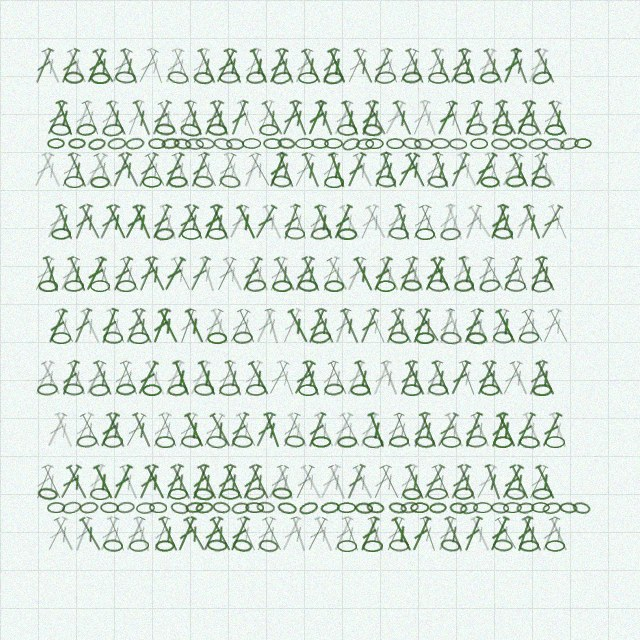chain: (531, 69, 553, 86), (179, 122, 202, 138), (271, 70, 293, 86), (298, 500, 319, 516), (167, 70, 189, 85), (219, 174, 241, 189), (310, 226, 332, 241), (479, 278, 501, 293), (310, 330, 332, 345), (341, 136, 361, 152), (559, 136, 580, 151), (245, 486, 266, 501), (61, 500, 82, 515), (232, 538, 253, 553), (440, 538, 461, 553), (102, 123, 124, 137), (531, 279, 553, 293), (440, 331, 462, 345), (362, 435, 384, 449), (518, 435, 540, 449), (193, 71, 214, 85), (323, 71, 344, 85), (362, 123, 383, 137), (193, 175, 214, 189), (427, 175, 448, 189), (531, 175, 552, 189), (154, 227, 175, 241), (440, 227, 461, 241), (466, 331, 487, 345), (89, 383, 110, 397), (167, 383, 188, 397), (206, 435, 227, 449), (414, 435, 435, 449), (37, 487, 58, 501), (193, 487, 214, 501), (505, 487, 526, 501), (258, 539, 279, 553), (466, 123, 488, 136), (76, 435, 98, 448), (87, 137, 107, 151), (213, 137, 233, 151), (545, 137, 565, 151), (277, 501, 297, 515), (459, 501, 479, 515), (542, 501, 562, 515), (115, 71, 136, 84), (219, 71, 240, 84), (375, 71, 396, 84), (50, 123, 71, 136), (76, 123, 97, 136), (518, 123, 539, 136), (271, 175, 292, 188), (505, 175, 526, 188), (388, 227, 409, 240), (297, 279, 318, 292), (505, 279, 526, 292), (37, 383, 58, 396), (63, 383, 84, 396), (219, 383, 240, 396), (232, 435, 253, 448), (284, 435, 305, 448), (466, 435, 487, 448), (173, 137, 192, 151), (170, 501, 189, 515), (231, 501, 250, 515), (388, 501, 407, 515), (572, 501, 591, 515), (64, 71, 84, 84), (246, 71, 266, 84), (402, 71, 422, 84), (480, 71, 500, 84), (155, 123, 175, 136), (207, 123, 227, 136), (107, 137, 127, 150), (125, 137, 145, 150), (195, 137, 215, 150), (402, 137, 422, 150), (376, 175, 396, 188), (285, 227, 305, 240), (493, 227, 513, 240), (246, 279, 266, 292), (402, 279, 422, 292), (428, 279, 448, 292), (454, 279, 474, 292), (103, 331, 123, 344), (233, 331, 253, 344), (389, 331, 409, 344), (493, 331, 513, 344), (519, 331, 539, 344), (116, 383, 136, 396), (194, 383, 214, 396), (324, 383, 344, 396), (428, 383, 448, 396), (103, 435, 123, 448), (181, 435, 201, 448), (389, 435, 409, 448), (272, 487, 292, 500), (454, 487, 474, 500), (79, 501, 99, 514), (320, 501, 340, 514), (103, 539, 123, 552), (129, 539, 149, 552), (207, 539, 227, 552), (389, 539, 409, 552), (493, 539, 513, 552), (427, 488, 448, 500), (362, 540, 383, 552), (161, 137, 180, 150), (277, 137, 296, 150), (509, 137, 528, 150), (116, 501, 135, 514), (185, 501, 204, 514), (195, 501, 214, 514), (212, 501, 231, 514), (256, 501, 275, 514), (366, 501, 385, 514), (400, 501, 419, 514), (90, 72, 110, 84), (298, 72, 318, 84), (428, 72, 448, 84), (454, 72, 474, 84), (259, 124, 279, 136), (337, 124, 357, 136), (493, 124, 513, 136), (545, 124, 565, 136), (528, 138, 548, 150), (64, 176, 84, 188), (90, 176, 110, 188), (142, 176, 162, 188), (168, 176, 188, 188), (324, 176, 344, 188), (480, 176, 500, 188), (51, 228, 71, 240), (181, 228, 201, 240), (207, 228, 227, 240), (337, 228, 357, 240), (415, 228, 435, 240), (38, 280, 58, 292), (64, 280, 84, 292), (90, 280, 110, 292), (116, 280, 136, 292), (272, 280, 292, 292), (324, 280, 344, 292), (376, 280, 396, 292), (51, 332, 71, 344), (129, 332, 149, 344), (207, 332, 227, 344), (415, 332, 435, 344), (142, 384, 162, 396), (246, 384, 266, 396), (298, 384, 318, 396), (350, 384, 370, 396), (402, 384, 422, 396), (480, 384, 500, 396), (532, 384, 552, 396), (155, 436, 175, 448), (311, 436, 331, 448), (337, 436, 357, 448), (441, 436, 461, 448), (493, 436, 513, 448), (545, 436, 565, 448), (90, 488, 110, 500), (168, 488, 188, 500), (220, 488, 240, 500), (402, 488, 422, 500), (532, 488, 552, 500), (155, 540, 175, 552), (337, 540, 357, 552), (519, 540, 539, 552), (545, 540, 565, 552), (185, 138, 204, 150), (414, 138, 433, 150), (491, 138, 510, 150), (136, 502, 155, 514), (449, 502, 468, 514), (516, 502, 535, 514), (559, 502, 578, 514), (226, 138, 244, 150), (356, 138, 374, 150), (449, 138, 467, 150), (355, 502, 373, 514), (429, 502, 447, 514), (491, 502, 509, 514), (242, 138, 261, 149), (263, 138, 282, 149), (295, 138, 314, 149), (324, 138, 343, 149), (365, 138, 384, 149), (431, 138, 450, 149), (100, 502, 119, 513), (245, 502, 264, 513), (337, 502, 356, 513), (410, 502, 429, 513), (473, 502, 492, 513), (503, 502, 522, 513), (531, 502, 550, 513), (47, 138, 65, 149), (68, 138, 86, 149), (148, 138, 166, 149), (311, 138, 329, 149), (386, 138, 404, 149), (470, 138, 488, 149), (574, 138, 592, 149), (47, 502, 65, 513), (149, 502, 167, 513)
double: (471, 151, 500, 188), (466, 203, 495, 240), (414, 307, 443, 344), (492, 515, 521, 552), (90, 47, 118, 85), (259, 99, 287, 137), (493, 99, 521, 137), (82, 151, 110, 189), (246, 151, 274, 189), (394, 151, 422, 189), (498, 151, 526, 189), (532, 151, 560, 189), (173, 203, 201, 241), (251, 203, 279, 241), (537, 203, 565, 241), (160, 255, 188, 293), (324, 255, 352, 293), (480, 255, 508, 293), (225, 307, 253, 345), (519, 307, 547, 345), (264, 359, 292, 397), (290, 359, 318, 397), (121, 411, 149, 449), (199, 411, 227, 449), (207, 411, 235, 449), (433, 411, 461, 449), (56, 463, 84, 501), (264, 463, 292, 501), (298, 463, 326, 501), (498, 463, 526, 501), (77, 515, 105, 553), (181, 515, 209, 553), (207, 515, 235, 553), (64, 47, 91, 85), (108, 47, 135, 85), (134, 47, 161, 85), (212, 47, 239, 85), (446, 47, 473, 85), (524, 47, 551, 85), (532, 47, 559, 85), (43, 99, 70, 137), (155, 99, 182, 137), (363, 99, 390, 137), (381, 99, 408, 137), (433, 99, 460, 137), (30, 151, 57, 189), (116, 151, 143, 189), (134, 151, 161, 189), (142, 151, 169, 189), (290, 151, 317, 189), (350, 151, 377, 189), (43, 203, 70, 241), (77, 203, 104, 241), (121, 203, 148, 241), (225, 203, 252, 241), (337, 203, 364, 241), (363, 203, 390, 241), (30, 255, 57, 293), (56, 255, 83, 293), (82, 255, 109, 293), (168, 255, 195, 293), (186, 255, 213, 293), (212, 255, 239, 293), (220, 255, 247, 293), (238, 255, 265, 293), (272, 255, 299, 293), (428, 255, 455, 293), (155, 307, 182, 345), (285, 307, 312, 345), (389, 307, 416, 345), (493, 307, 520, 345), (545, 307, 572, 345), (38, 359, 65, 397), (82, 359, 109, 397), (134, 359, 161, 397), (186, 359, 213, 397), (246, 359, 273, 397), (480, 359, 507, 397), (498, 359, 525, 397), (43, 411, 70, 449), (77, 411, 104, 449), (233, 411, 260, 449), (285, 411, 312, 449), (329, 411, 356, 449), (337, 411, 364, 449), (64, 463, 91, 501), (142, 463, 169, 501), (168, 463, 195, 501), (316, 463, 343, 501), (350, 463, 377, 501), (420, 463, 447, 501), (472, 463, 499, 501), (524, 463, 551, 501), (43, 515, 70, 553), (51, 515, 78, 553), (199, 515, 226, 553), (259, 515, 286, 553), (303, 515, 330, 553), (389, 515, 416, 553), (519, 515, 546, 553), (83, 47, 109, 85), (161, 47, 187, 85), (265, 47, 291, 85), (299, 47, 325, 85), (343, 47, 369, 85), (351, 47, 377, 85), (369, 47, 395, 85), (395, 47, 421, 85), (429, 47, 455, 85), (473, 47, 499, 85), (481, 47, 507, 85), (104, 99, 130, 137), (148, 99, 174, 137), (200, 99, 226, 137), (278, 99, 304, 137), (330, 99, 356, 137), (390, 99, 416, 137), (512, 99, 538, 137), (520, 99, 546, 137), (538, 99, 564, 137), (546, 99, 572, 137), (39, 151, 65, 189), (57, 151, 83, 189), (65, 151, 91, 189), (91, 151, 117, 189), (161, 151, 187, 189), (195, 151, 221, 189), (213, 151, 239, 189), (343, 151, 369, 189), (403, 151, 429, 189), (455, 151, 481, 189), (507, 151, 533, 189), (96, 203, 122, 241), (104, 203, 130, 241), (148, 203, 174, 241), (234, 203, 260, 241), (260, 203, 286, 241), (382, 203, 408, 241), (408, 203, 434, 241), (109, 255, 135, 293), (117, 255, 143, 293), (143, 255, 169, 293), (247, 255, 273, 293), (291, 255, 317, 293), (343, 255, 369, 293), (351, 255, 377, 293), (369, 255, 395, 293), (377, 255, 403, 293), (421, 255, 447, 293), (533, 255, 559, 293), (44, 307, 70, 345), (52, 307, 78, 345), (78, 307, 104, 345), (122, 307, 148, 345), (130, 307, 156, 345), (182, 307, 208, 345), (200, 307, 226, 345), (252, 307, 278, 345), (278, 307, 304, 345), (312, 307, 338, 345), (460, 307, 486, 345), (486, 307, 512, 345), (538, 307, 564, 345), (31, 359, 57, 397), (143, 359, 169, 397), (161, 359, 187, 397), (239, 359, 265, 397), (325, 359, 351, 397), (403, 359, 429, 397), (447, 359, 473, 397), (473, 359, 499, 397), (533, 359, 559, 397), (70, 411, 96, 449), (96, 411, 122, 449), (148, 411, 174, 449), (174, 411, 200, 449), (182, 411, 208, 449), (226, 411, 252, 449), (252, 411, 278, 449), (312, 411, 338, 449), (442, 411, 468, 449), (468, 411, 494, 449), (494, 411, 520, 449), (512, 411, 538, 449), (520, 411, 546, 449), (538, 411, 564, 449), (39, 463, 65, 501), (91, 463, 117, 501), (109, 463, 135, 501), (135, 463, 161, 501), (195, 463, 221, 501), (221, 463, 247, 501), (247, 463, 273, 501), (291, 463, 317, 501), (377, 463, 403, 501), (447, 463, 473, 501), (507, 463, 533, 501), (533, 463, 559, 501), (96, 515, 122, 553), (122, 515, 148, 553), (156, 515, 182, 553), (226, 515, 252, 553), (234, 515, 260, 553), (252, 515, 278, 553), (278, 515, 304, 553), (330, 515, 356, 553), (356, 515, 382, 553), (408, 515, 434, 553), (468, 515, 494, 553), (486, 515, 512, 553), (546, 515, 572, 553), (31, 47, 56, 85), (39, 47, 64, 85), (57, 47, 82, 85), (169, 47, 194, 85), (195, 47, 220, 85), (221, 47, 246, 85), (247, 47, 272, 85), (273, 47, 298, 85), (291, 47, 316, 85), (325, 47, 350, 85), (403, 47, 428, 85), (499, 47, 524, 85), (70, 99, 95, 137), (96, 99, 121, 137), (130, 99, 155, 137), (182, 99, 207, 137), (208, 99, 233, 137), (234, 99, 259, 137), (304, 99, 329, 137), (408, 99, 433, 137), (460, 99, 485, 137), (468, 99, 493, 137), (109, 151, 134, 189), (169, 151, 194, 189), (187, 151, 212, 189), (221, 151, 246, 189), (265, 151, 290, 189), (299, 151, 324, 189), (421, 151, 446, 189), (447, 151, 472, 189), (130, 203, 155, 241), (182, 203, 207, 241), (200, 203, 225, 241), (208, 203, 233, 241), (312, 203, 337, 241), (330, 203, 355, 241), (356, 203, 381, 241), (416, 203, 441, 241), (486, 203, 511, 241), (512, 203, 537, 241), (546, 203, 571, 241), (65, 255, 90, 293), (135, 255, 160, 293), (265, 255, 290, 293), (299, 255, 324, 293), (395, 255, 420, 293), (403, 255, 428, 293), (499, 255, 524, 293), (70, 307, 95, 345), (104, 307, 129, 345), (208, 307, 233, 345), (234, 307, 259, 345), (304, 307, 329, 345), (338, 307, 363, 345), (356, 307, 381, 345), (364, 307, 389, 345), (382, 307, 407, 345), (468, 307, 493, 345), (512, 307, 537, 345), (65, 359, 90, 397), (91, 359, 116, 397), (109, 359, 134, 397), (117, 359, 142, 397), (195, 359, 220, 397), (213, 359, 238, 397), (343, 359, 368, 397), (369, 359, 394, 397), (429, 359, 454, 397), (507, 359, 532, 397), (525, 359, 550, 397), (52, 411, 77, 449), (104, 411, 129, 449), (130, 411, 155, 449), (156, 411, 181, 449), (278, 411, 303, 449), (304, 411, 329, 449), (356, 411, 381, 449), (382, 411, 407, 449), (416, 411, 441, 449), (31, 463, 56, 501), (117, 463, 142, 501), (213, 463, 238, 501), (239, 463, 264, 501), (325, 463, 350, 501), (343, 463, 368, 501), (369, 463, 394, 501), (395, 463, 420, 501), (403, 463, 428, 501), (429, 463, 454, 501), (455, 463, 480, 501), (104, 515, 129, 553), (174, 515, 199, 553), (312, 515, 337, 553), (382, 515, 407, 553), (434, 515, 459, 553), (442, 515, 467, 553), (460, 515, 485, 553), (538, 515, 563, 553), (118, 47, 142, 85), (188, 47, 212, 85), (240, 47, 264, 85), (318, 47, 342, 85), (378, 47, 402, 85), (422, 47, 446, 85), (456, 47, 480, 85), (508, 47, 532, 85), (53, 99, 77, 137), (79, 99, 103, 137), (123, 99, 147, 137), (175, 99, 199, 137), (227, 99, 251, 137), (253, 99, 277, 137), (287, 99, 311, 137), (313, 99, 337, 137), (339, 99, 363, 137), (357, 99, 381, 137), (417, 99, 441, 137), (240, 151, 264, 189), (274, 151, 298, 189), (370, 151, 394, 189), (526, 151, 550, 189), (53, 203, 77, 241), (71, 203, 95, 241), (157, 203, 181, 241), (279, 203, 303, 241), (287, 203, 311, 241), (305, 203, 329, 241), (443, 203, 467, 241), (461, 203, 485, 241), (521, 203, 545, 241), (92, 255, 116, 293), (318, 255, 342, 293), (448, 255, 472, 293), (456, 255, 480, 293), (508, 255, 532, 293), (526, 255, 550, 293), (97, 307, 121, 345), (149, 307, 173, 345), (175, 307, 199, 345), (409, 307, 433, 345), (443, 307, 467, 345), (58, 359, 82, 397), (170, 359, 194, 397), (222, 359, 246, 397), (274, 359, 298, 397), (300, 359, 324, 397), (352, 359, 376, 397), (378, 359, 402, 397), (396, 359, 420, 397), (422, 359, 446, 397), (365, 411, 389, 449), (391, 411, 415, 449), (409, 411, 433, 449), (461, 411, 485, 449), (487, 411, 511, 449), (547, 411, 571, 449), (84, 463, 108, 501), (162, 463, 186, 501), (188, 463, 212, 501), (274, 463, 298, 501), (71, 515, 95, 553), (149, 515, 173, 553), (339, 515, 363, 553), (144, 47, 167, 85), (443, 99, 466, 137), (487, 99, 510, 137), (318, 151, 341, 189), (326, 151, 349, 189), (378, 151, 401, 189), (430, 151, 453, 189), (482, 151, 505, 189), (435, 203, 458, 241), (495, 203, 518, 241), (40, 255, 63, 293), (474, 255, 497, 293), (331, 307, 354, 345), (435, 307, 458, 345), (318, 359, 341, 397), (456, 359, 479, 397), (261, 411, 284, 449), (482, 463, 505, 501), (131, 515, 154, 553), (365, 515, 388, 553), (417, 515, 440, 553), (513, 515, 536, 553), (392, 203, 414, 241), (197, 255, 219, 293), (288, 515, 310, 553), (262, 307, 283, 345)
